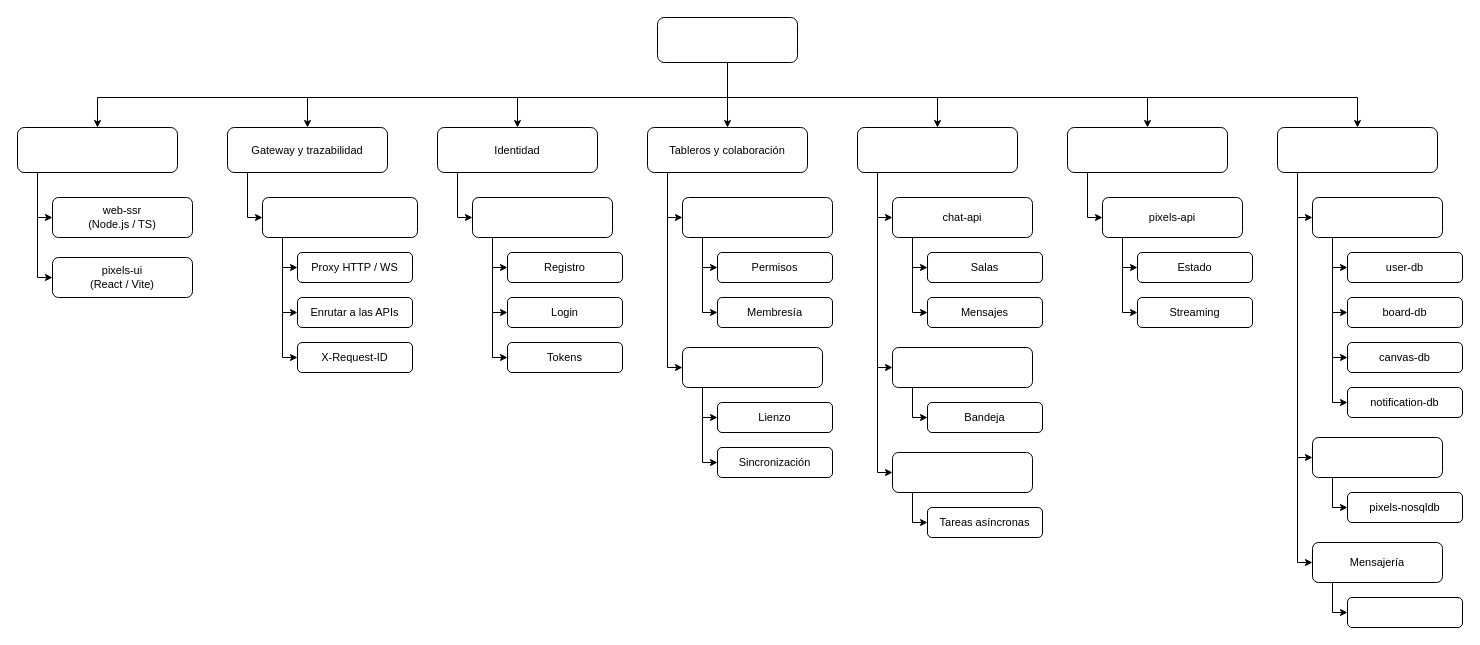
Some shapes in this 1480 by 645 pixel diagram are drawn without their labels. The shapes that lost their labels are listed below. From the top down, each one's box as (x1, y1, x2, y2) in pixels, then its label:
(656, 16, 798, 62): CollaBoard
(16, 126, 178, 172): Presentación
(856, 126, 1018, 172): Comunicación
(1066, 126, 1228, 172): Creatividad
(1276, 126, 1438, 172): Infraestructura de datos
(262, 196, 418, 238): gateway (Nginx)
(472, 196, 612, 238): auth-api
(682, 196, 832, 238): collaboration-api
(1312, 196, 1442, 238): PostgreSQL
(682, 346, 822, 388): pizarra-api
(892, 346, 1032, 388): notification-api
(892, 452, 1032, 492): message-worker
(1312, 436, 1442, 478): MongoDB
(1346, 596, 1462, 628): rabbitmq
